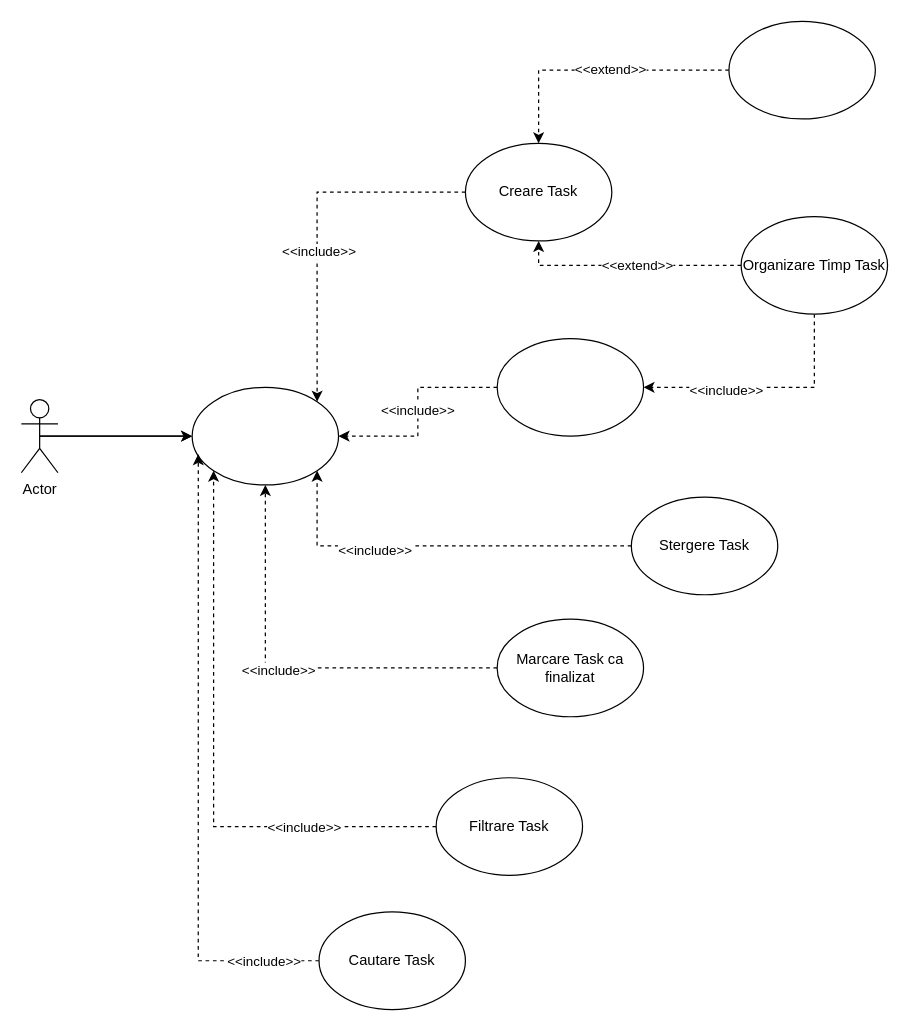
This 909x1031 diagram has some shape labels left out. Here are the shapes that lost their labels. From the top down, the box of each, then its label:
(728, 20, 875, 119): Setare prioritate Task
(496, 337, 644, 436): Editare Task
(191, 386, 339, 485): Autentificare
